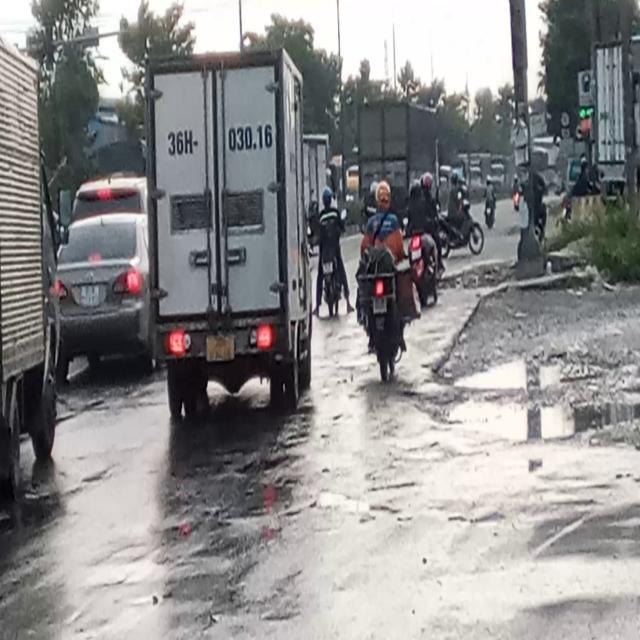bien_vang: (205, 328, 237, 363)
